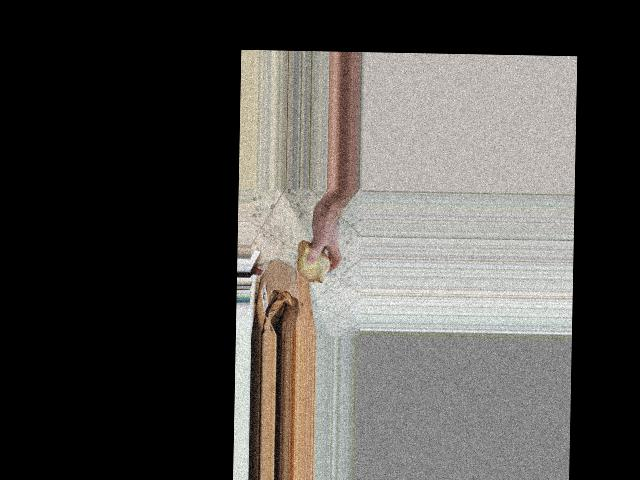onion: (294, 238, 334, 283)
